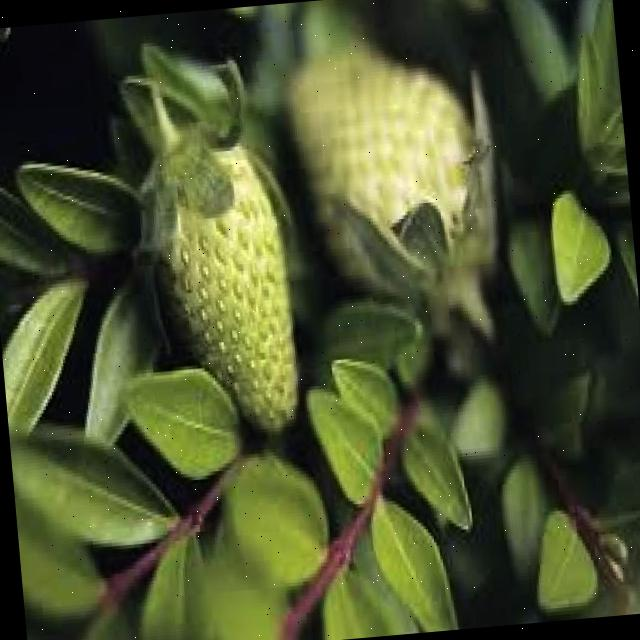strawberry: (139, 130, 303, 440), (288, 41, 484, 292)
